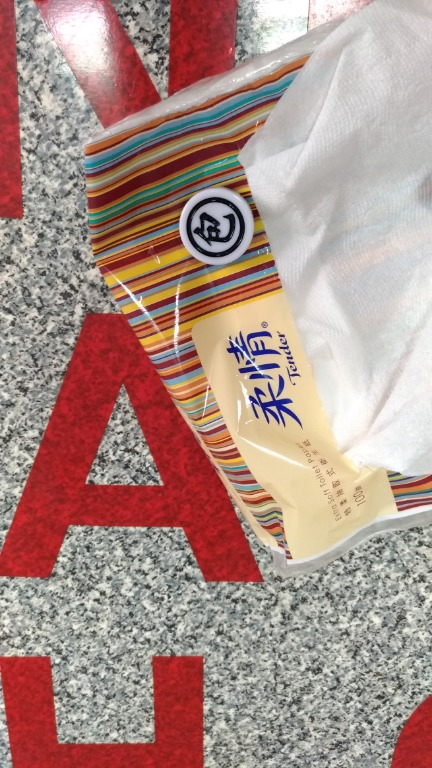b-cannon: (178, 184, 271, 273)
